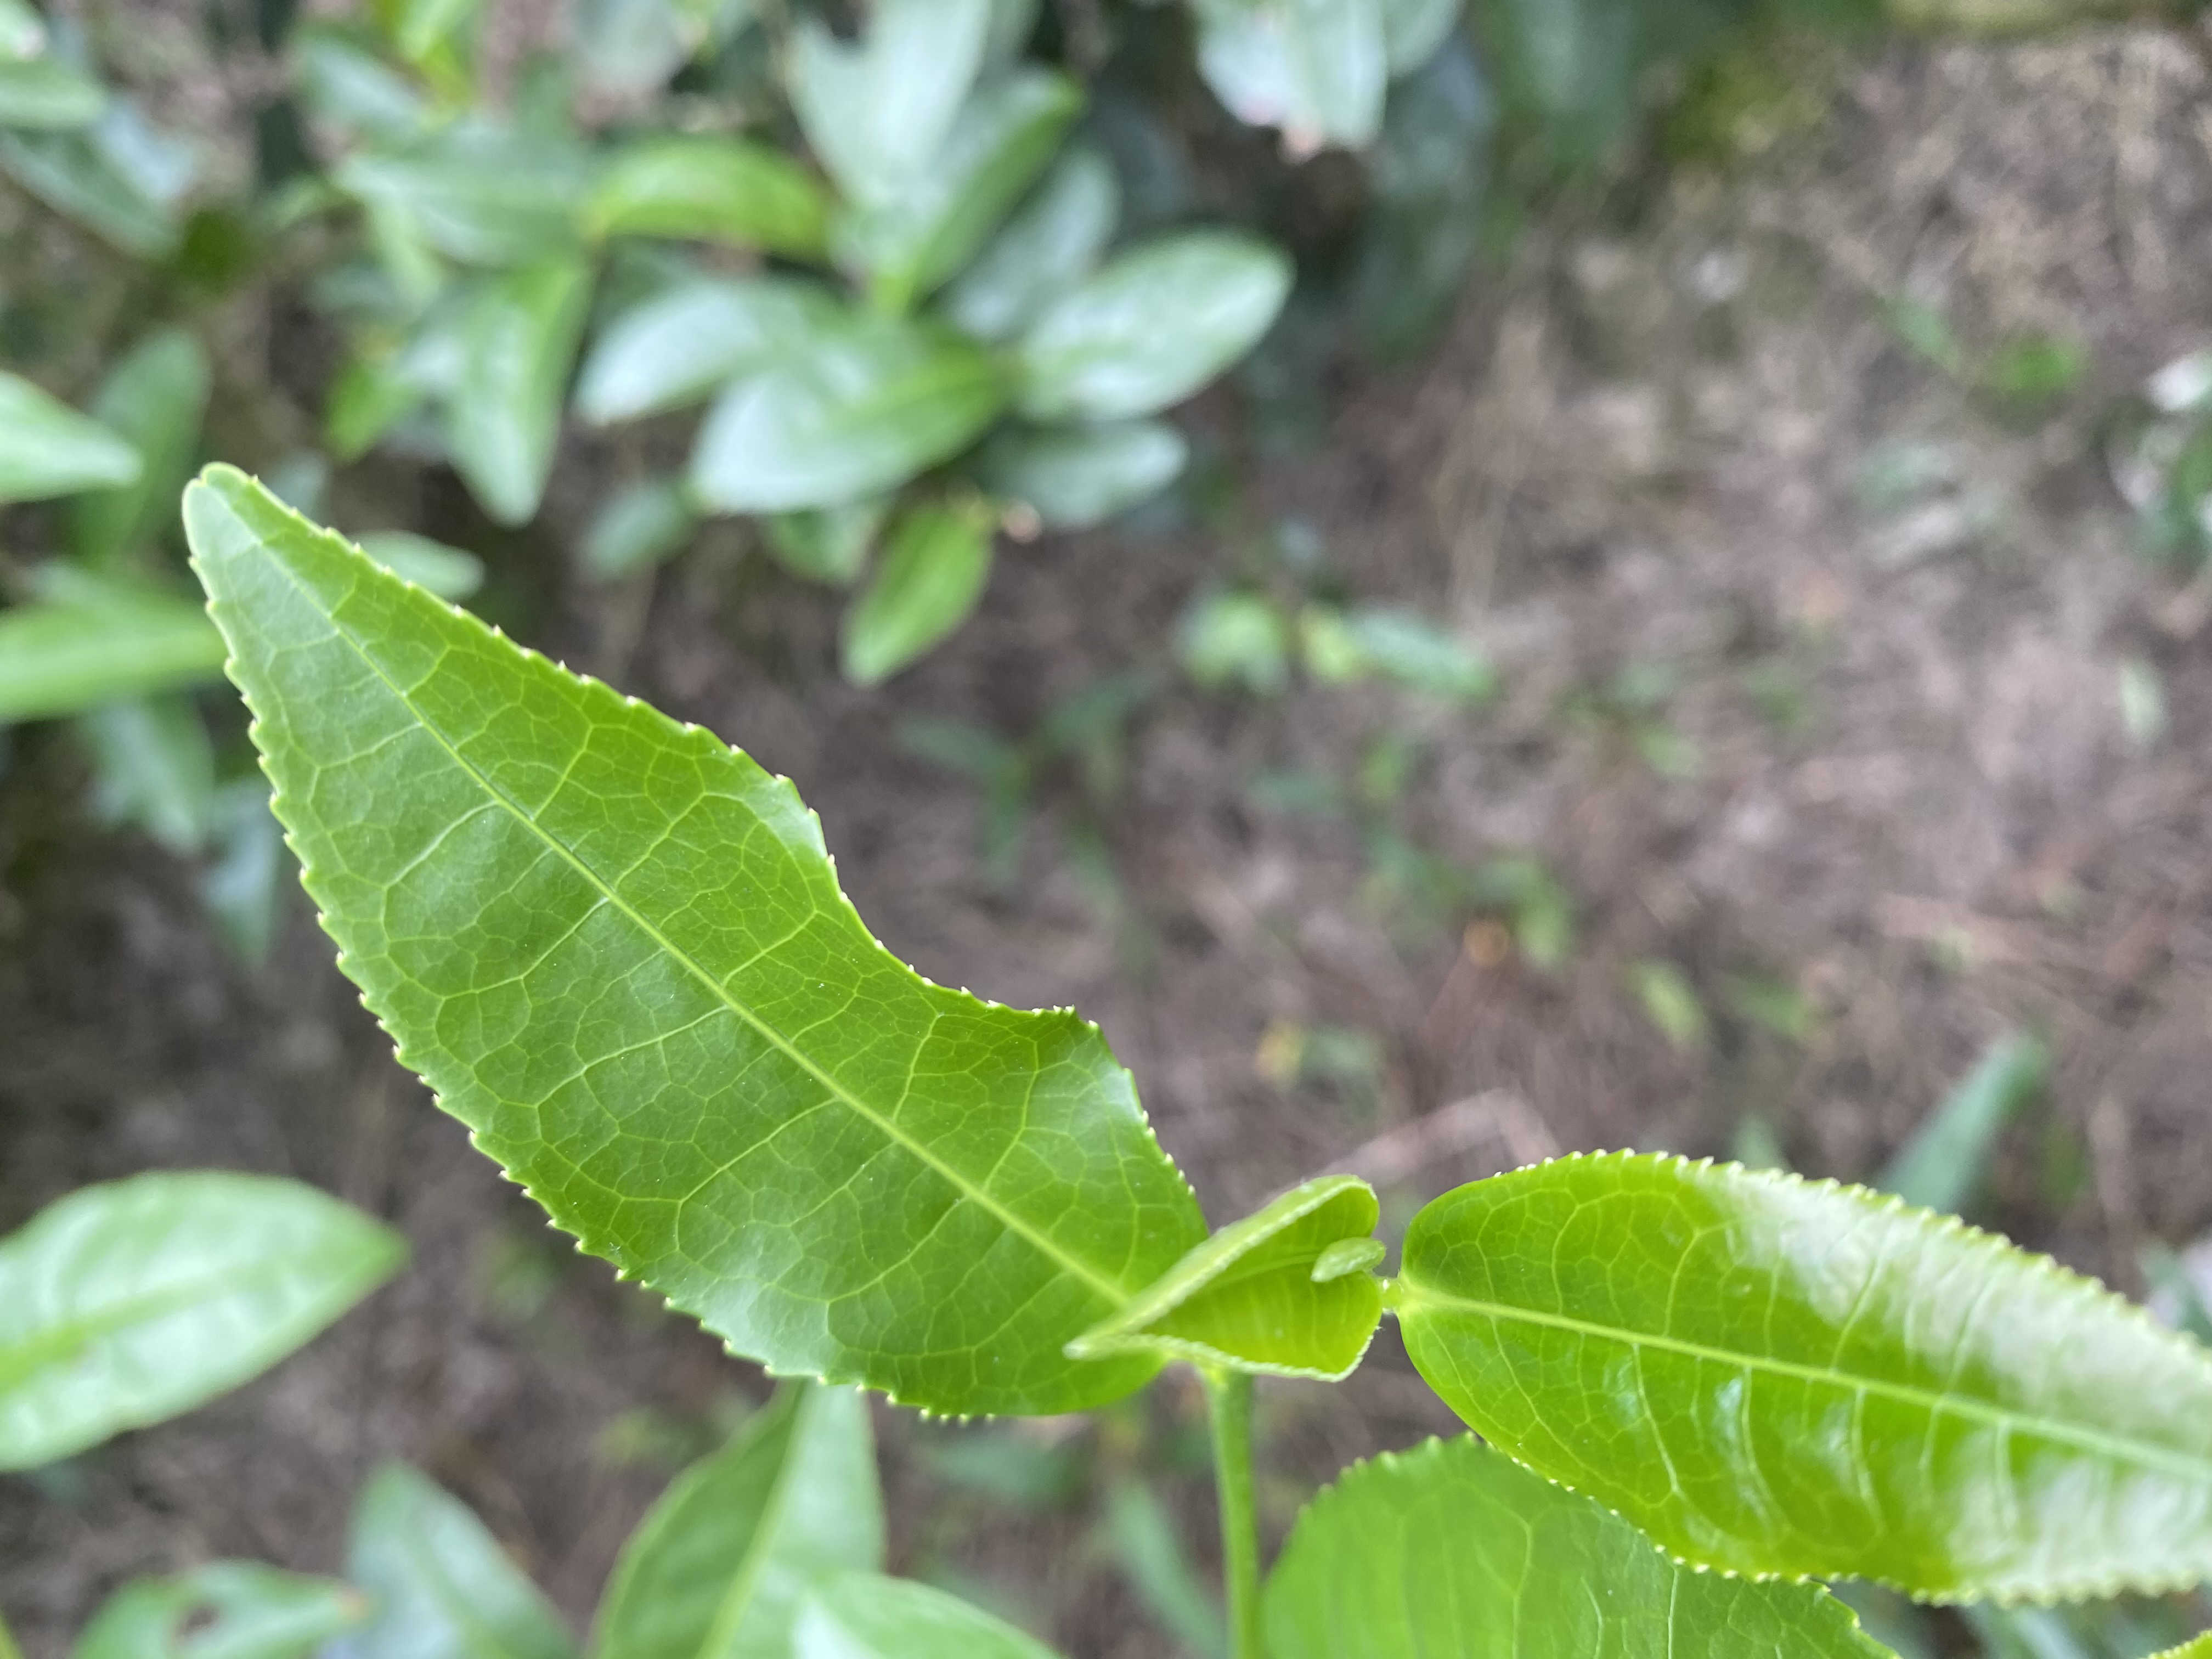healthy: (176, 460, 1214, 1417), (1393, 1145, 2210, 1610), (1066, 1171, 1388, 1380)
